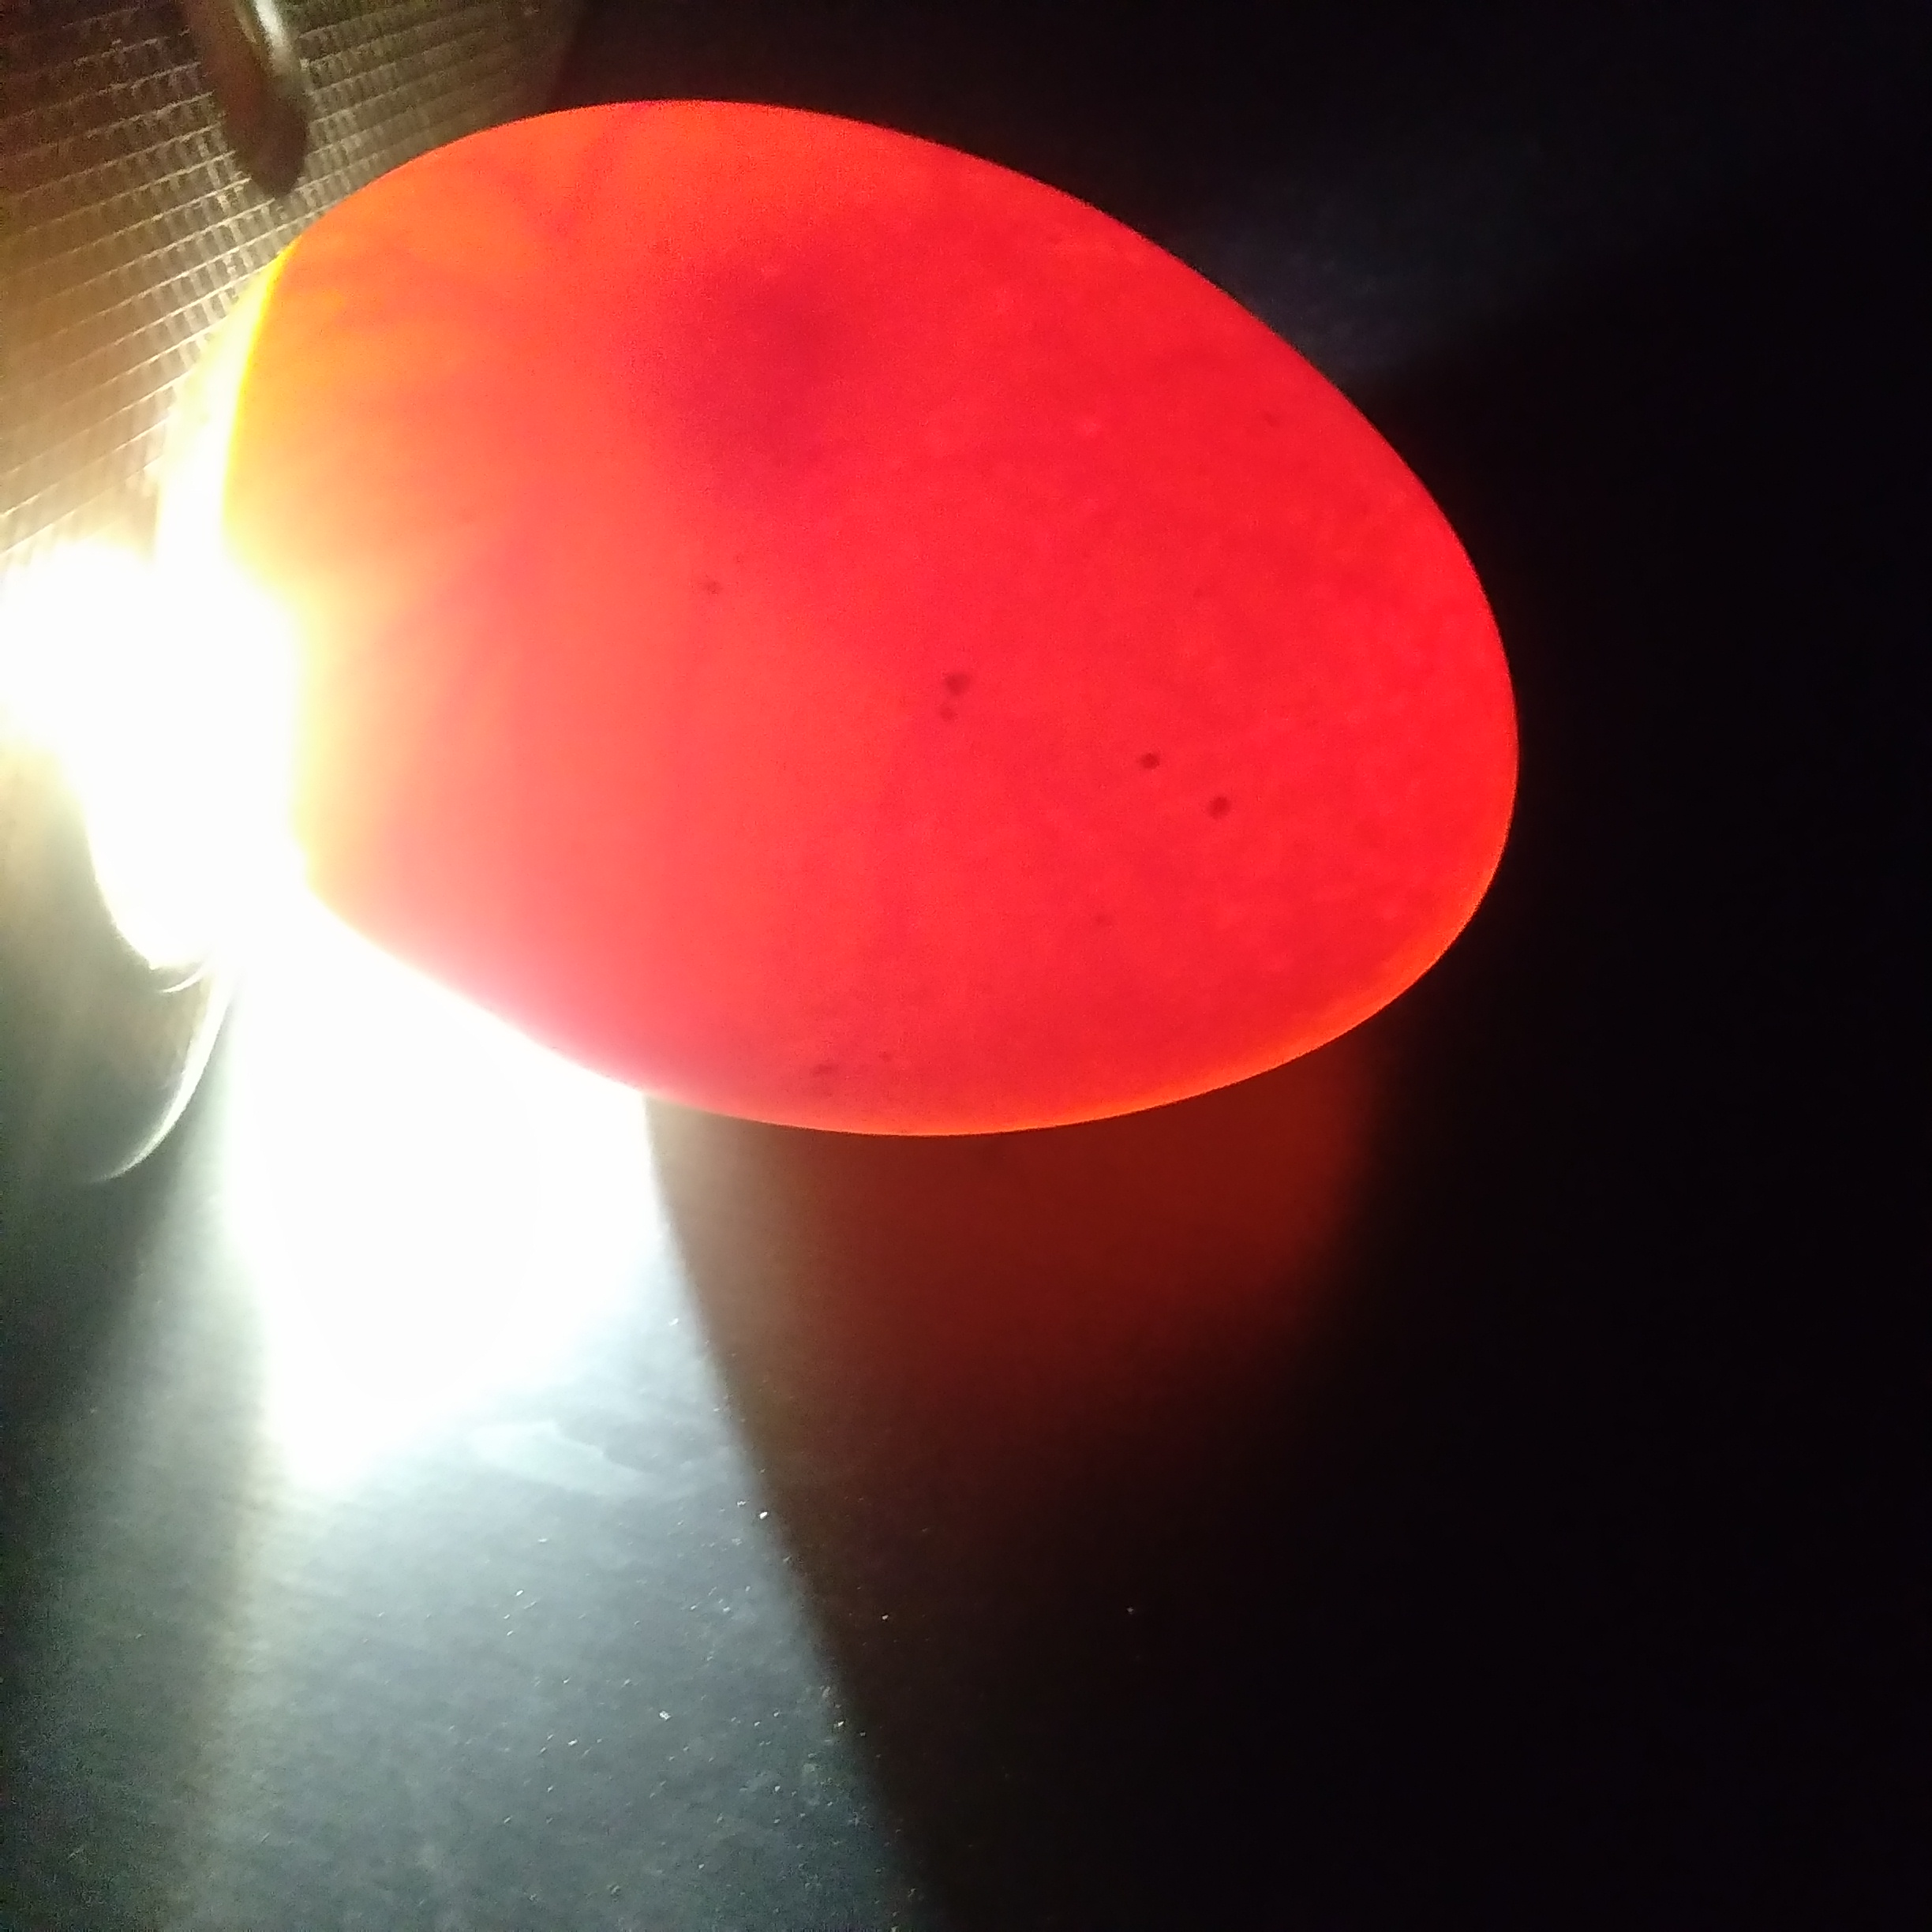bloodcell: (370, 292, 577, 846)
embryo: (676, 244, 863, 474)
